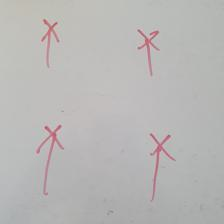nuclease-site: (36, 126, 65, 196), (148, 132, 174, 203), (138, 29, 161, 77), (41, 18, 60, 67)
